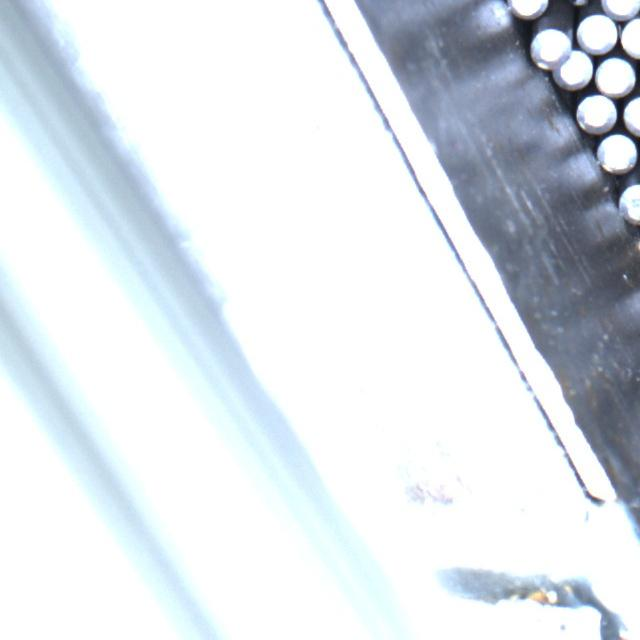tool: (526, 26, 572, 69), (575, 11, 618, 53), (594, 53, 635, 95), (575, 91, 617, 132), (553, 48, 593, 91), (596, 132, 637, 172), (614, 182, 640, 227), (619, 14, 640, 57), (507, 0, 550, 21), (620, 93, 640, 135), (600, 0, 640, 17)
